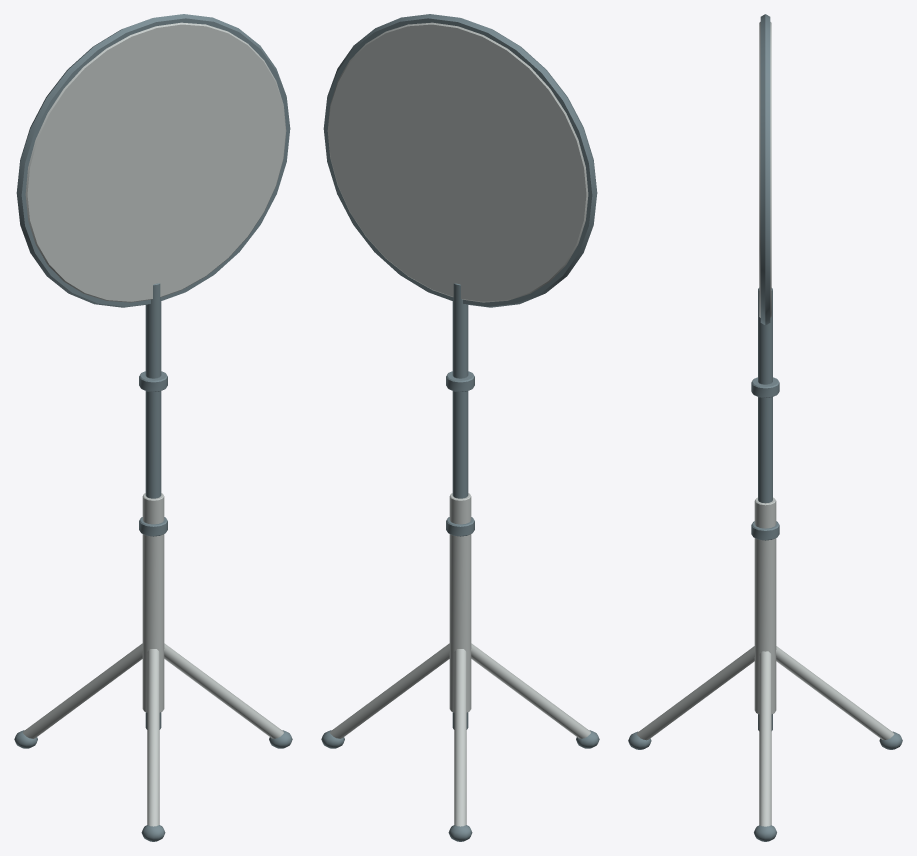
Rendered from reflector.glb.
The picture shows the model from 3 angles, left to right: view 1: azimuth 30°, elevation 25°; view 2: azimuth 150°, elevation 25°; view 3: azimuth 270°, elevation 25°; orthographic projection.
Visible parts, largest first — view 1: reflector_fabric, reflector_rim, lower_stand, telescoping_stand, tripod_leg_1, tripod_leg_0, tripod_leg_2; view 2: reflector_fabric, reflector_rim, lower_stand, telescoping_stand, tripod_leg_2, tripod_leg_0, tripod_leg_1; view 3: lower_stand, reflector_rim, telescoping_stand, tripod_leg_0, tripod_leg_1, tripod_leg_2, reflector_fabric.
Part boxes in pixels (<box>): reflector_fabric: <box>25,22,286,302</box>; reflector_rim: <box>16,14,290,307</box>; lower_stand: <box>142,493,164,712</box>; telescoping_stand: <box>145,283,161,729</box>; tripod_leg_1: <box>147,649,159,826</box>; tripod_leg_0: <box>164,643,283,738</box>; tripod_leg_2: <box>23,643,142,738</box>; reflector_fabric: <box>327,22,588,302</box>; reflector_rim: <box>323,14,597,307</box>; lower_stand: <box>449,493,471,712</box>; telescoping_stand: <box>452,283,468,729</box>; tripod_leg_2: <box>454,649,466,826</box>; tripod_leg_0: <box>330,643,449,738</box>; tripod_leg_1: <box>471,643,590,738</box>; lower_stand: <box>754,497,776,713</box>; reflector_rim: <box>760,14,770,325</box>; telescoping_stand: <box>758,288,772,730</box>; tripod_leg_0: <box>759,651,771,826</box>; tripod_leg_1: <box>636,646,754,740</box>; tripod_leg_2: <box>776,646,894,740</box>; reflector_fabric: <box>759,22,771,317</box>.
Bounding box in the file's own units: 0.905 × 2.4 × 0.7955.
